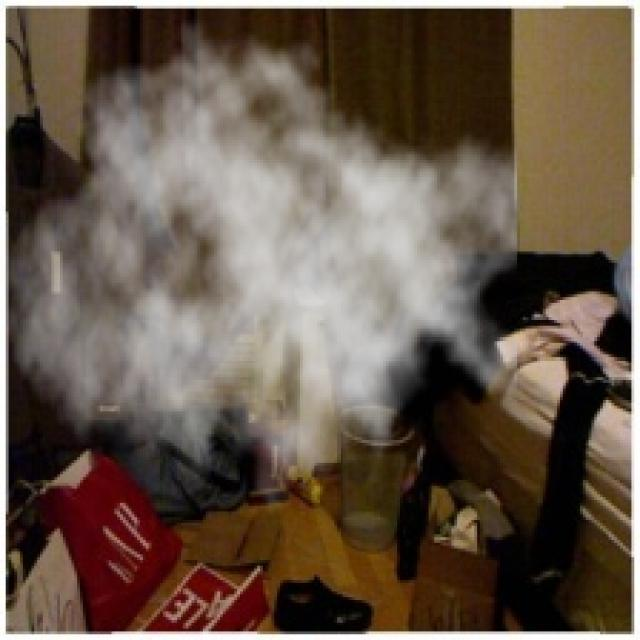smoke: (3, 17, 517, 537)
